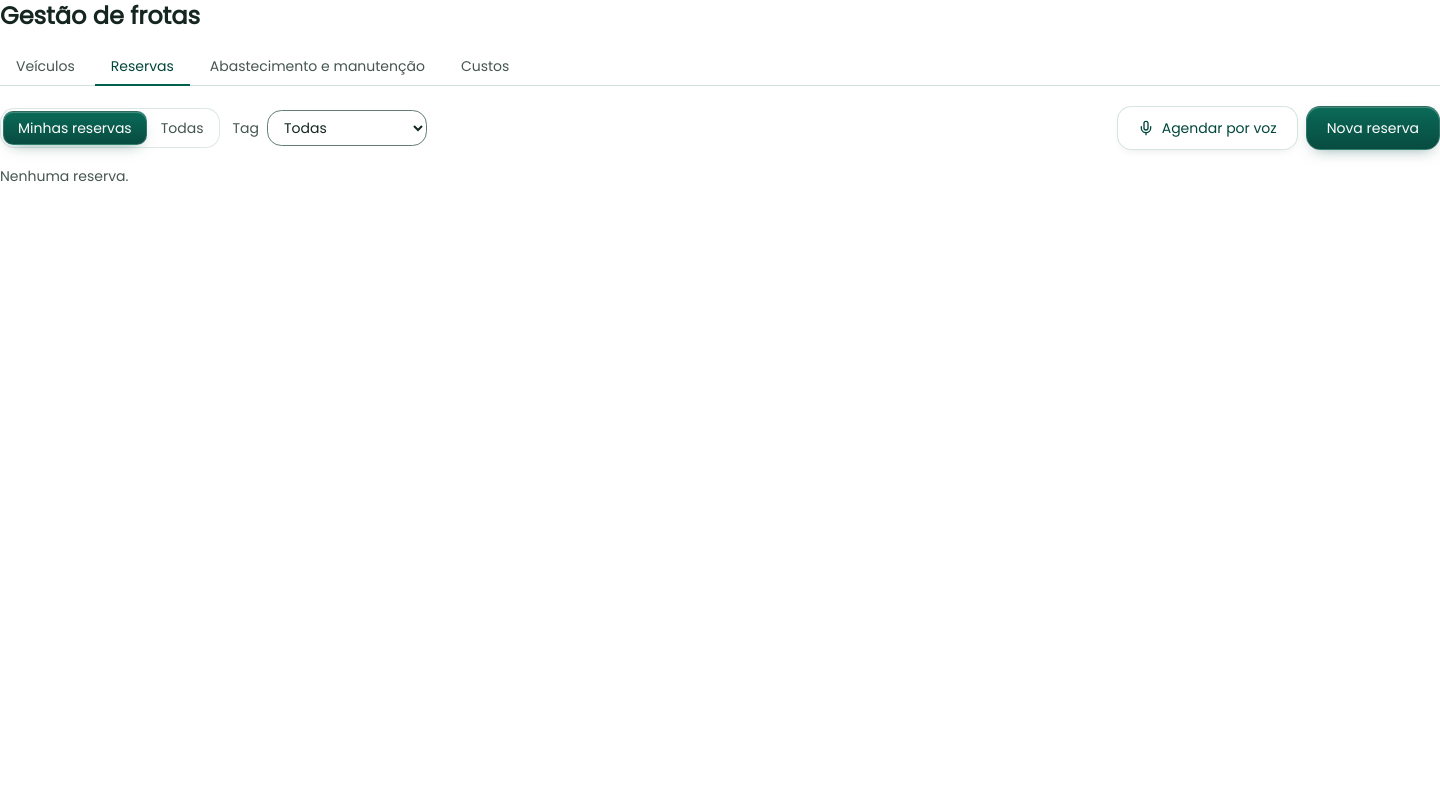
Test case: Gestão de frotas › reserva com choque de horário mostra o erro; sem choque, entra na lista
Click the button "Nova reserva".
click(1373, 128)  # box [1306, 106, 1439, 150]
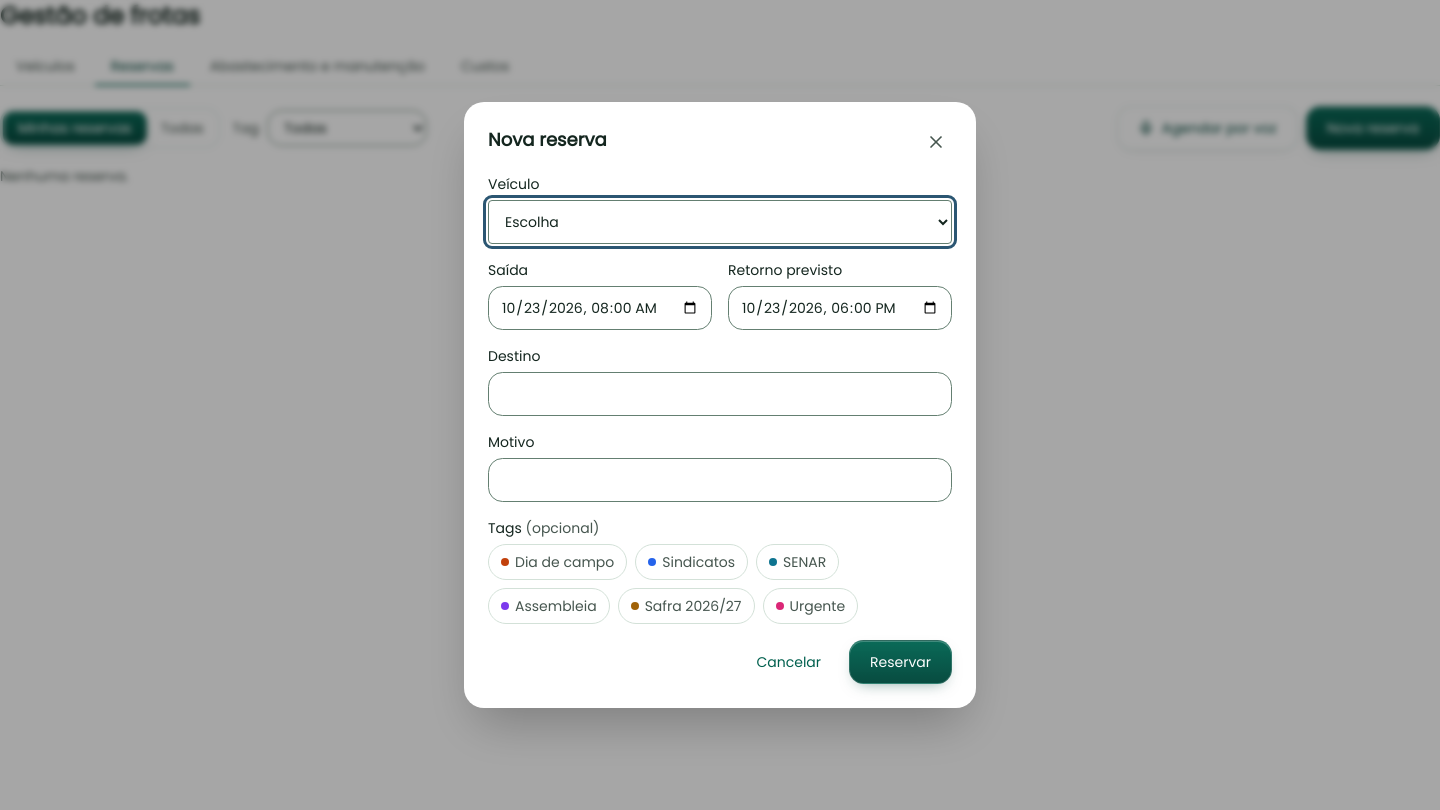
Select "Hilux (ABC1D23)" in the dropdown labelled "Veículo" at (720, 222), box [488, 200, 952, 244]
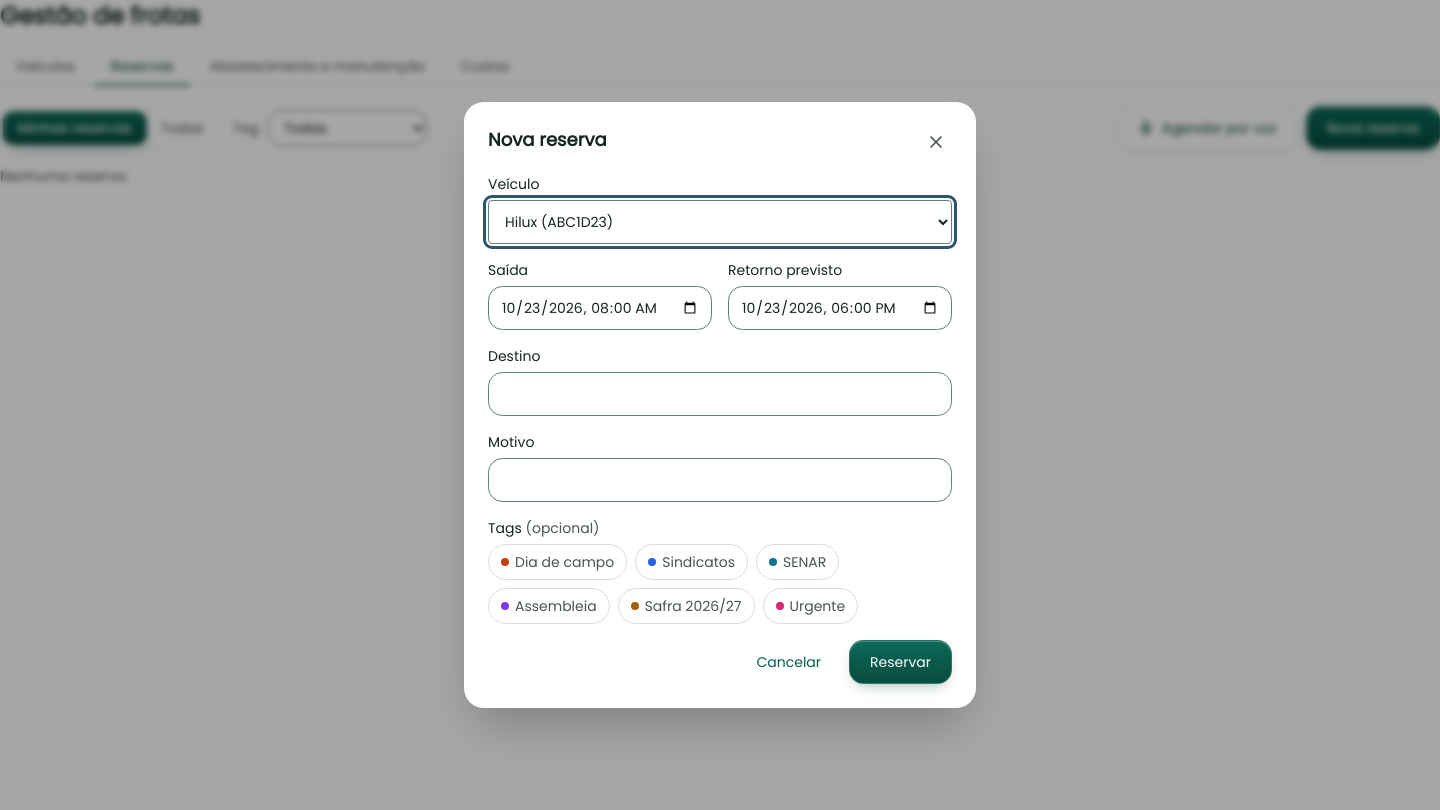
Type "Vilhena" into the field labelled "Destino".
click(720, 394); type("Vilhena")  # box [488, 372, 952, 416]
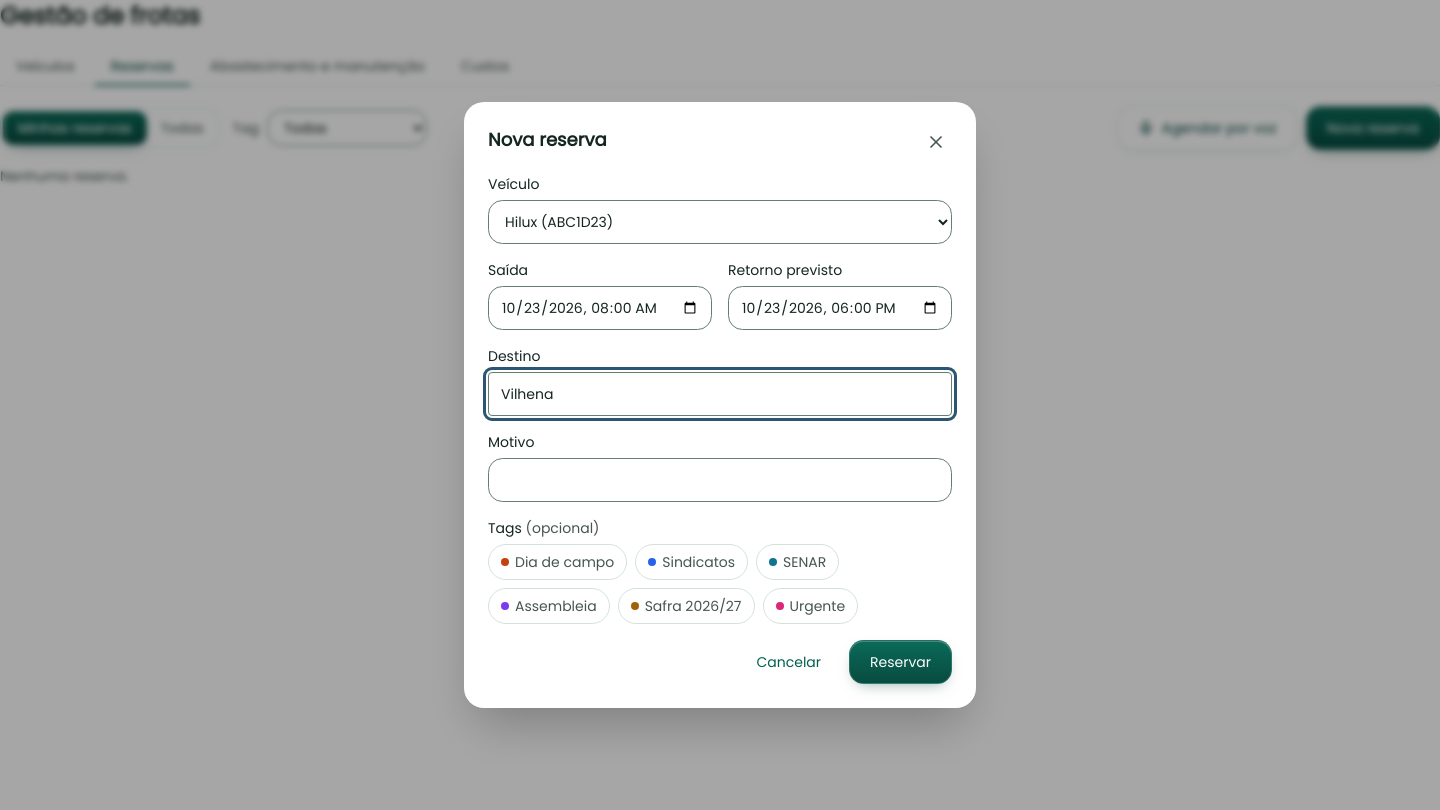
Click the button "Reservar".
click(900, 662)  # box [849, 640, 952, 684]
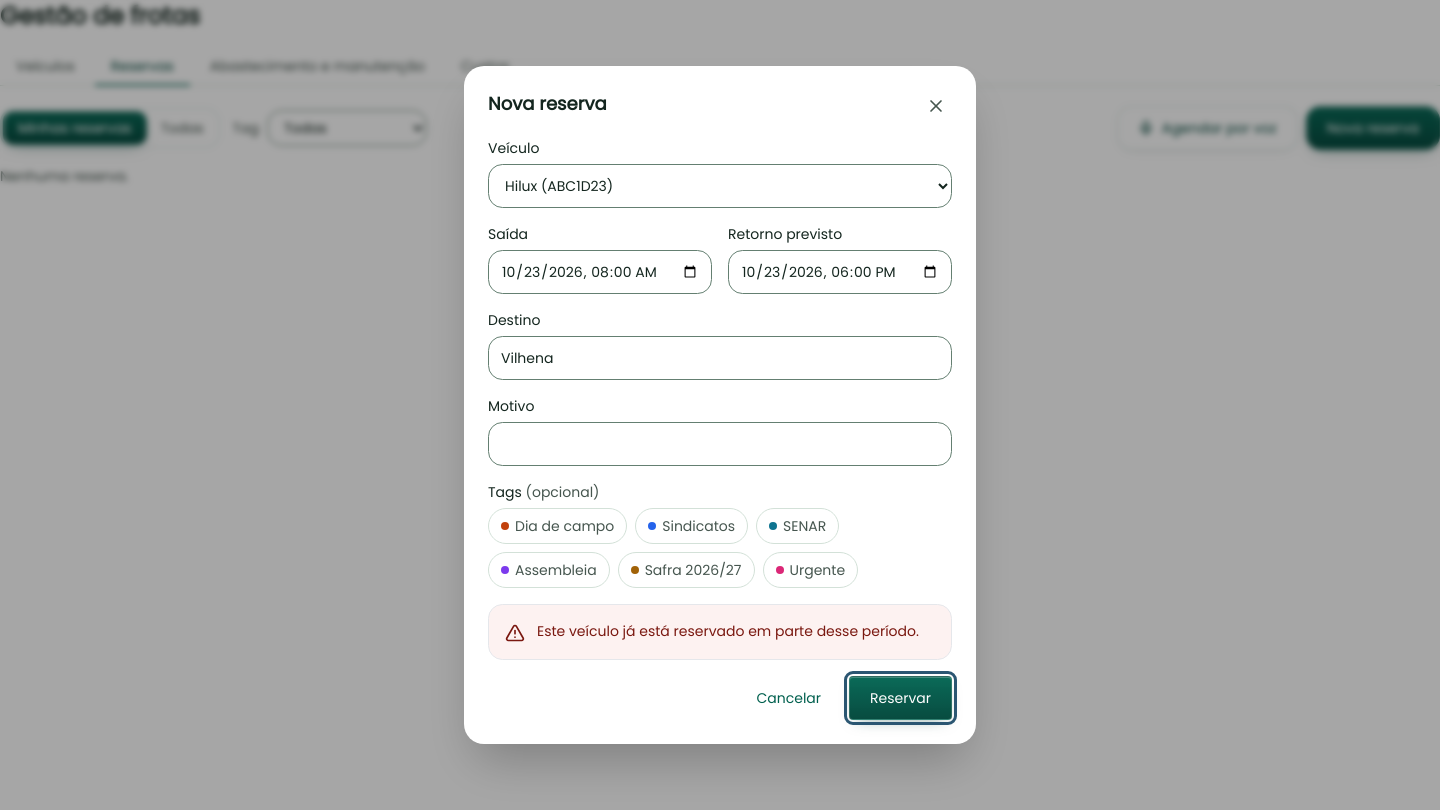
Expected: the message shows "já está reservado", [537, 621, 919, 641]
Select "Strada (XYZ-9876)" in the dropdown labelled "Veículo" at (720, 186), box [488, 164, 952, 208]
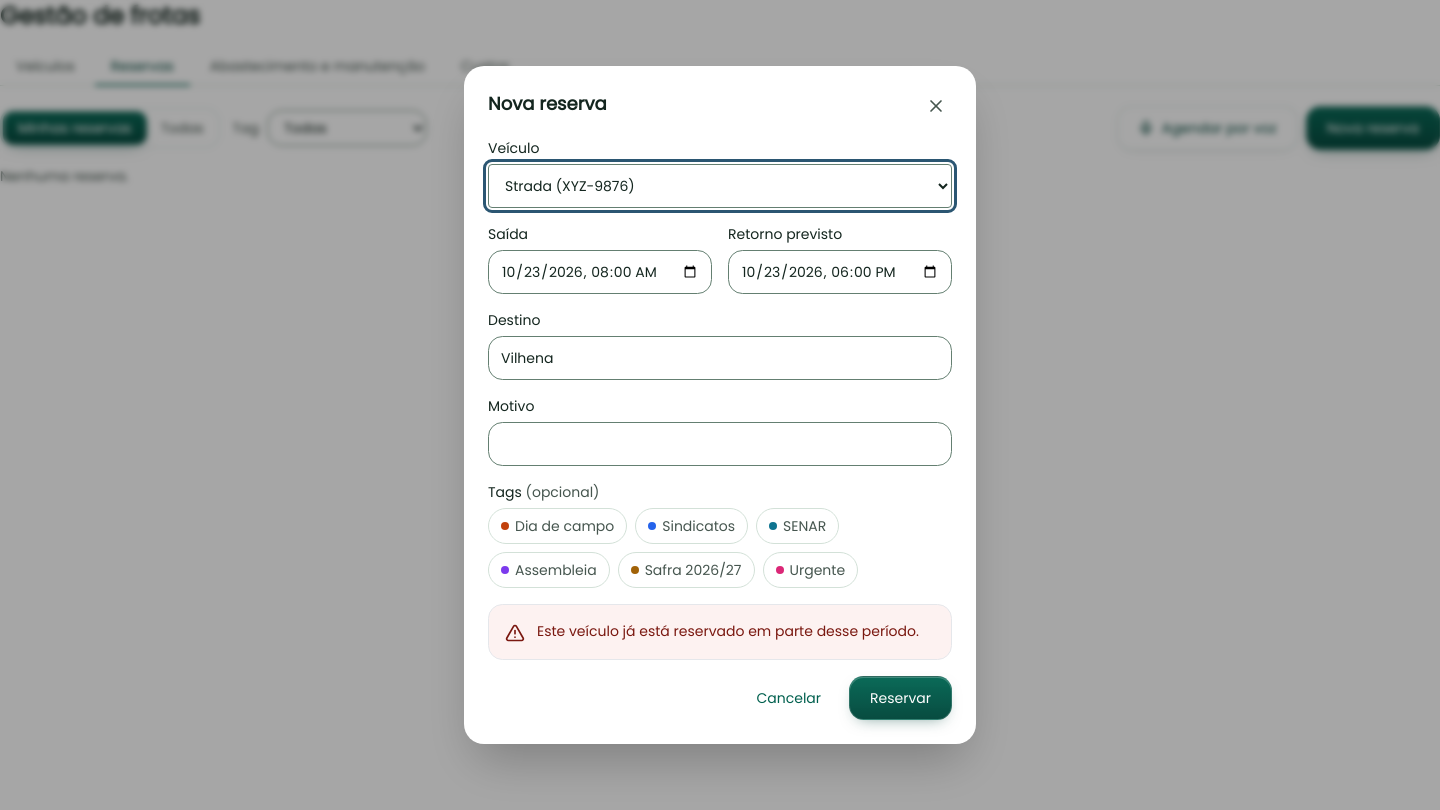
Click the button "Reservar".
click(900, 698)  # box [849, 676, 952, 720]
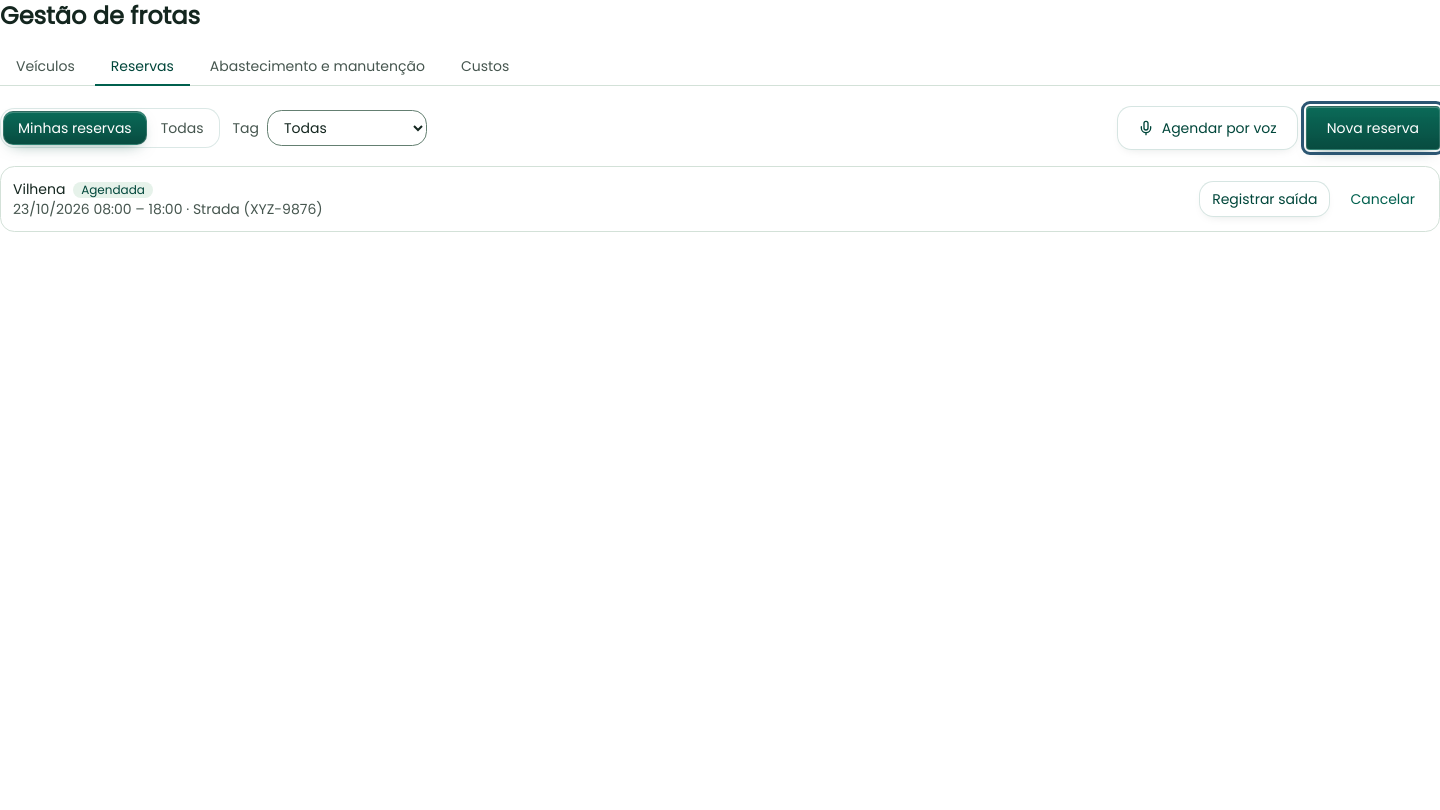
Expected: the dialog is gone
Expected: the text "Vilhena" is shown, [13, 179, 65, 199]
